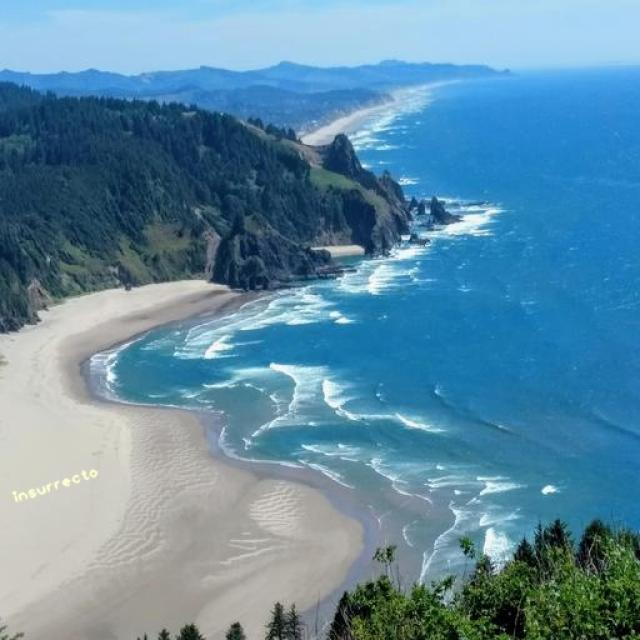watermark: (11, 464, 99, 504)
